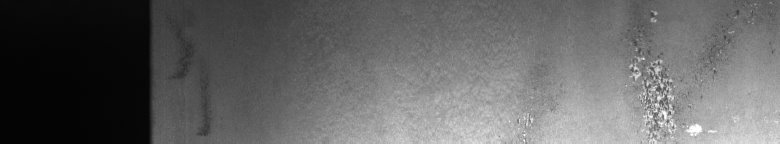hc: (621, 4, 773, 136)
